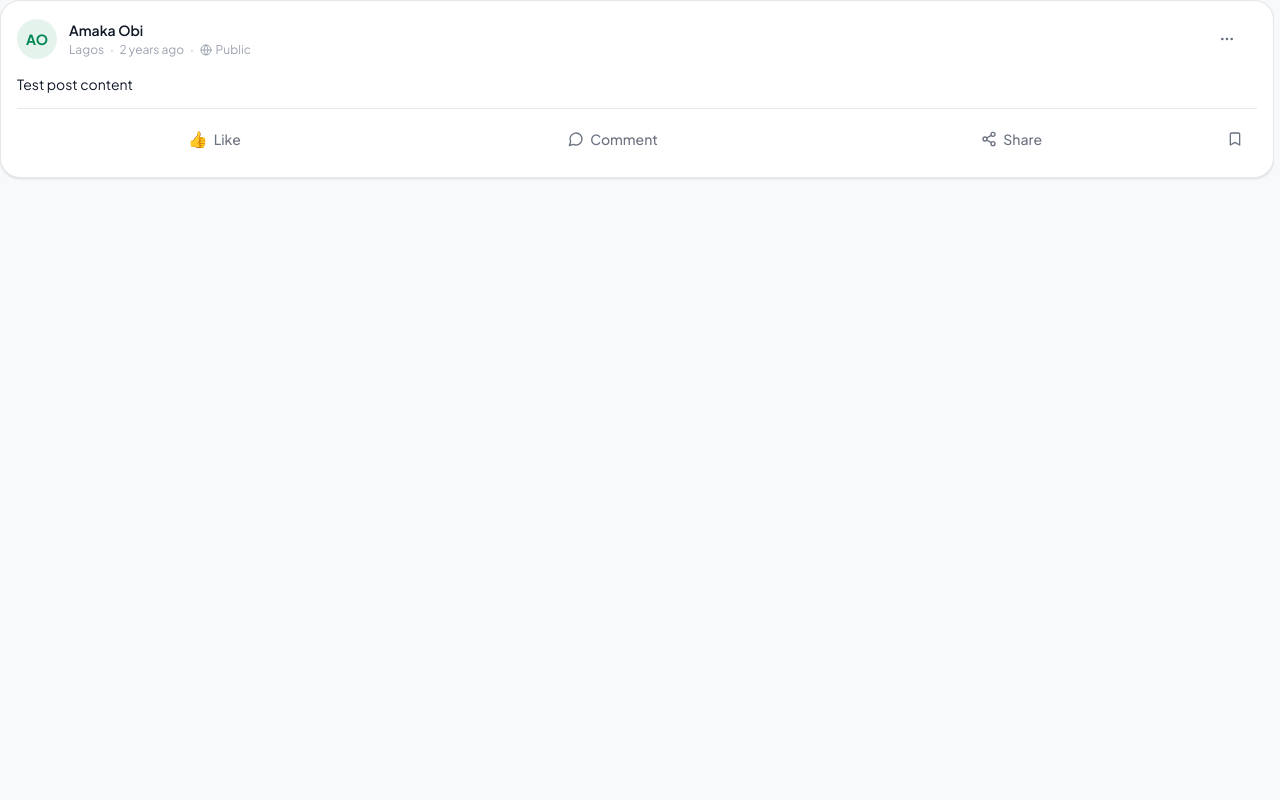
Test: PostCard › opens comment sheet on comment button click
The image size is (1280, 800).
Click the button with aria-label "View comments" at (613, 139), box [416, 117, 810, 161]
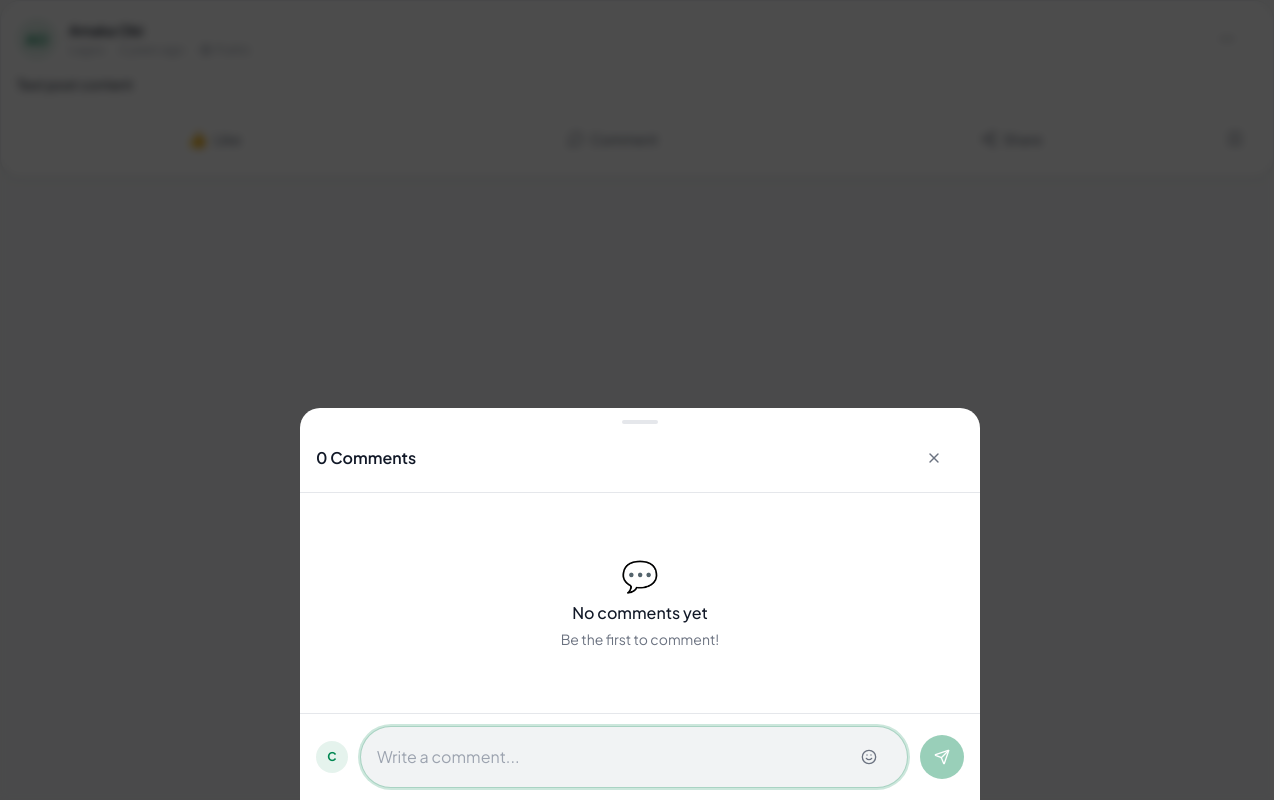
Result: the heading "0 Comments" is shown at [316, 446, 416, 470]
